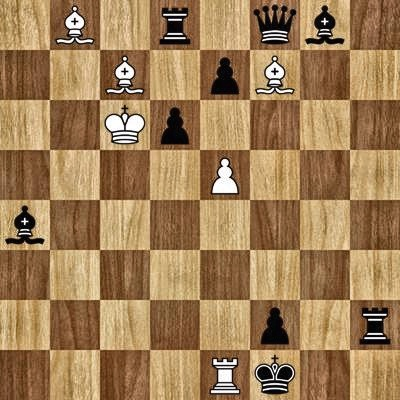black-bishop: (300, 0, 350, 50), (0, 200, 50, 250)
black-king: (250, 350, 300, 400)
black-pawn: (200, 50, 250, 100), (150, 100, 200, 150), (250, 300, 300, 350)
black-queen: (250, 0, 300, 50)
black-rook: (150, 0, 200, 50), (350, 300, 400, 350)
white-bishop: (50, 0, 100, 50), (100, 50, 150, 100), (250, 50, 300, 100)
white-king: (100, 100, 150, 150)
white-pawn: (200, 150, 250, 200)
white-rook: (200, 350, 250, 400)
